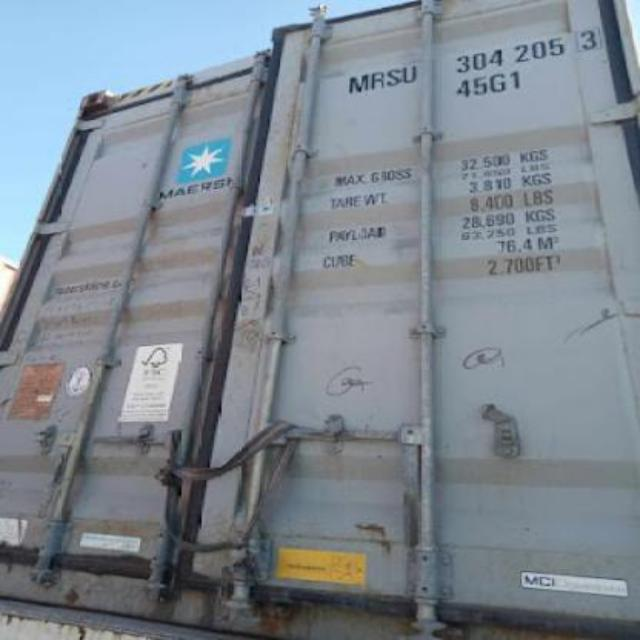0: (526, 38, 548, 66), (472, 50, 486, 72)
2: (510, 38, 530, 66)
3: (576, 30, 604, 54), (450, 51, 470, 75)
4: (488, 44, 506, 70)
5: (548, 33, 566, 57)
M: (346, 72, 370, 96)
R: (368, 67, 386, 93)
S: (384, 66, 402, 92)
U: (396, 61, 422, 85)
